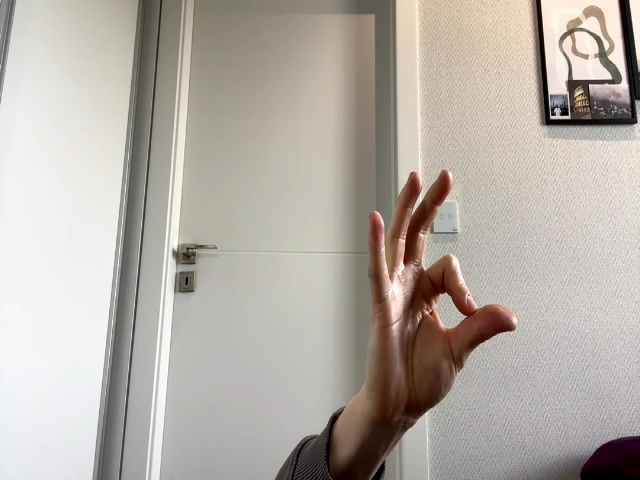S: (366, 171, 518, 419)
